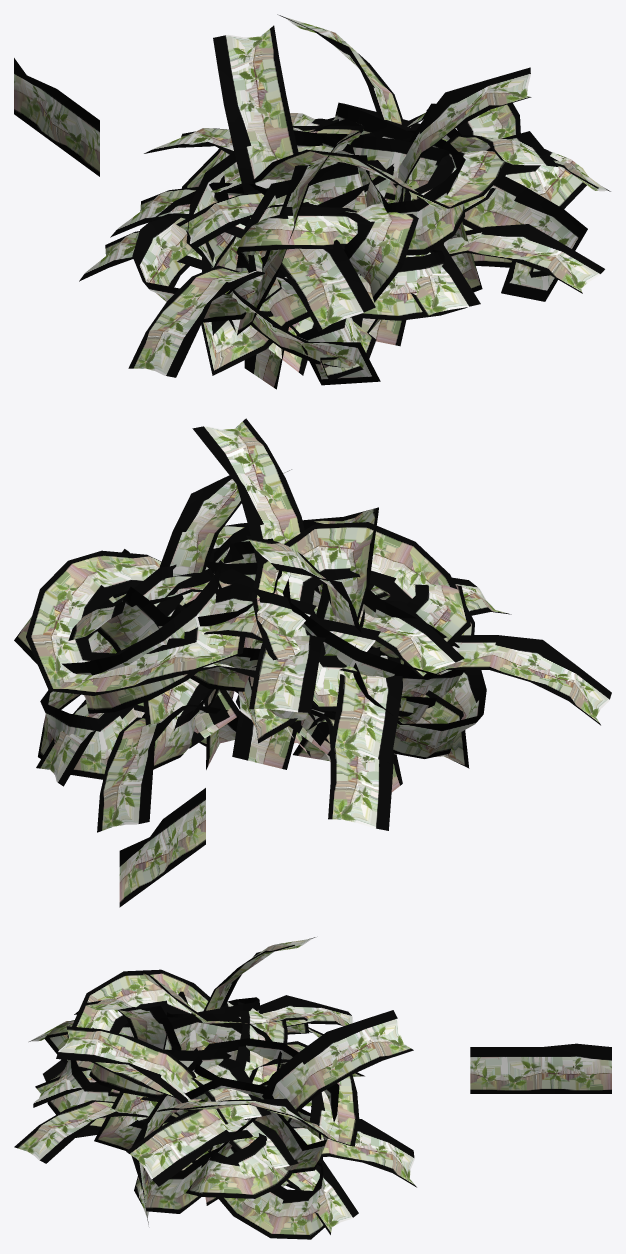
File: ronces.fbx
The picture shows the model from 3 angles, top to bottom: view 1: azimuth 30°, elevation 25°; view 2: azimuth 150°, elevation 25°; view 3: azimuth 270°, elevation 25°; orthographic projection. The views are drawn at different scales.
Visible parts, largest first — view 1: Plane.002, Plane; view 2: Plane.002, Plane; view 3: Plane.002, Plane.
Part boxes in pixels (<box>): Plane.002: <box>79,14,610,389</box>; Plane: <box>14,58,99,176</box>; Plane.002: <box>14,418,611,832</box>; Plane: <box>119,788,205,907</box>; Plane.002: <box>14,937,416,1239</box>; Plane: <box>470,1043,611,1093</box>.
Size of the model in its own units: 672 by 361 by 824.
